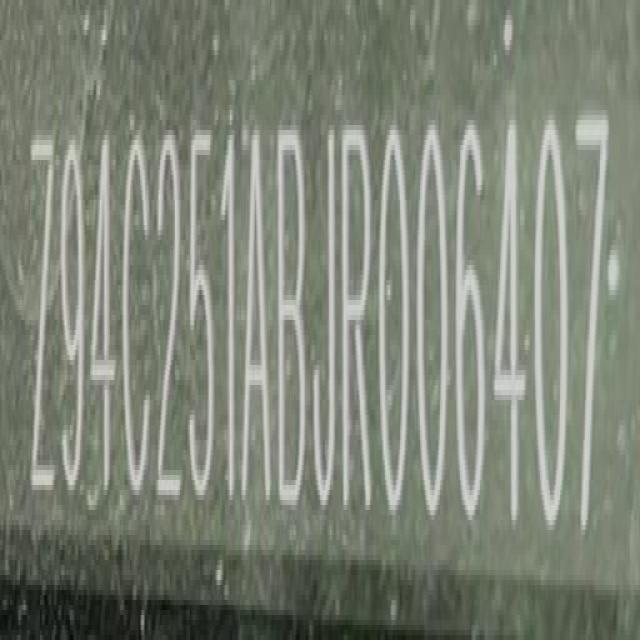0: (536, 106, 574, 542), (415, 117, 452, 528), (381, 120, 416, 529)
1: (218, 113, 240, 515)
2: (158, 115, 188, 519)
4: (494, 113, 528, 540), (90, 132, 120, 515)
5: (189, 120, 219, 516)
6: (452, 114, 486, 533)
7: (574, 96, 612, 543)
9: (55, 133, 85, 512)
A: (238, 123, 274, 517)
B: (276, 117, 310, 518)
C: (124, 124, 160, 517)
J: (314, 118, 340, 520)
R: (341, 120, 378, 526)
Z: (24, 130, 57, 506)
